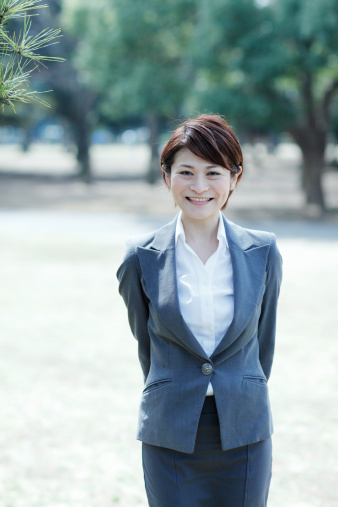em pe: (104, 126, 301, 507)
